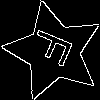F: (28, 26, 83, 72)
